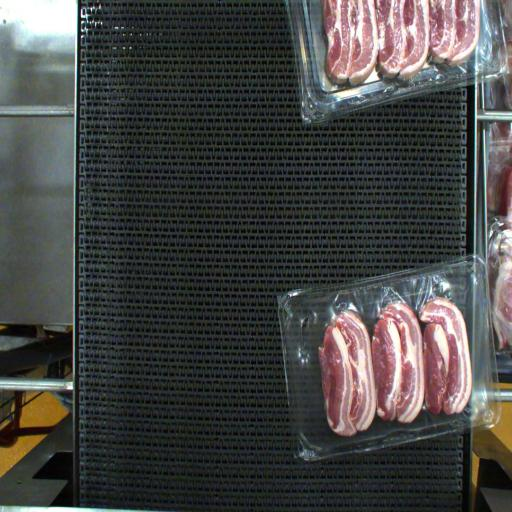unsealed: (299, 272, 475, 452)
